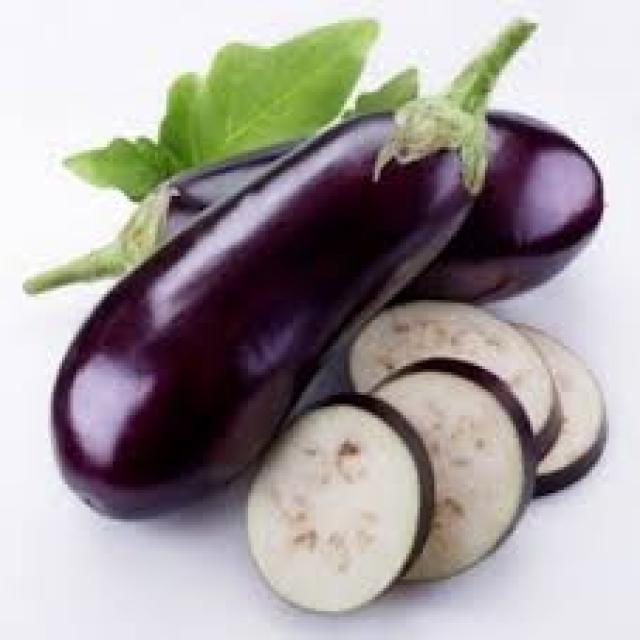eggplant: (68, 68, 499, 553), (29, 114, 640, 314), (279, 300, 605, 640)
